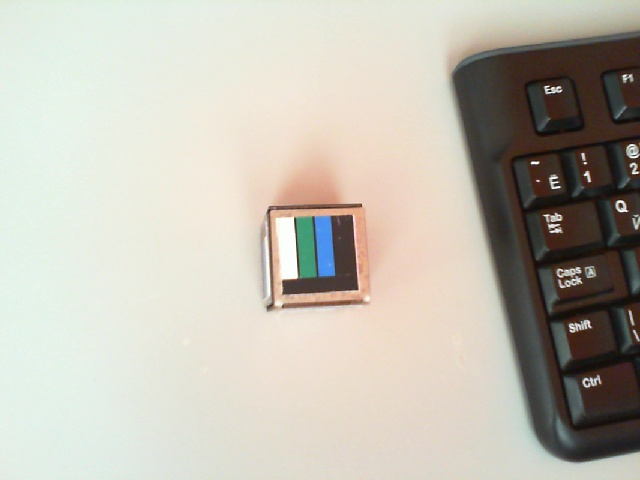square: (277, 216, 358, 291)
